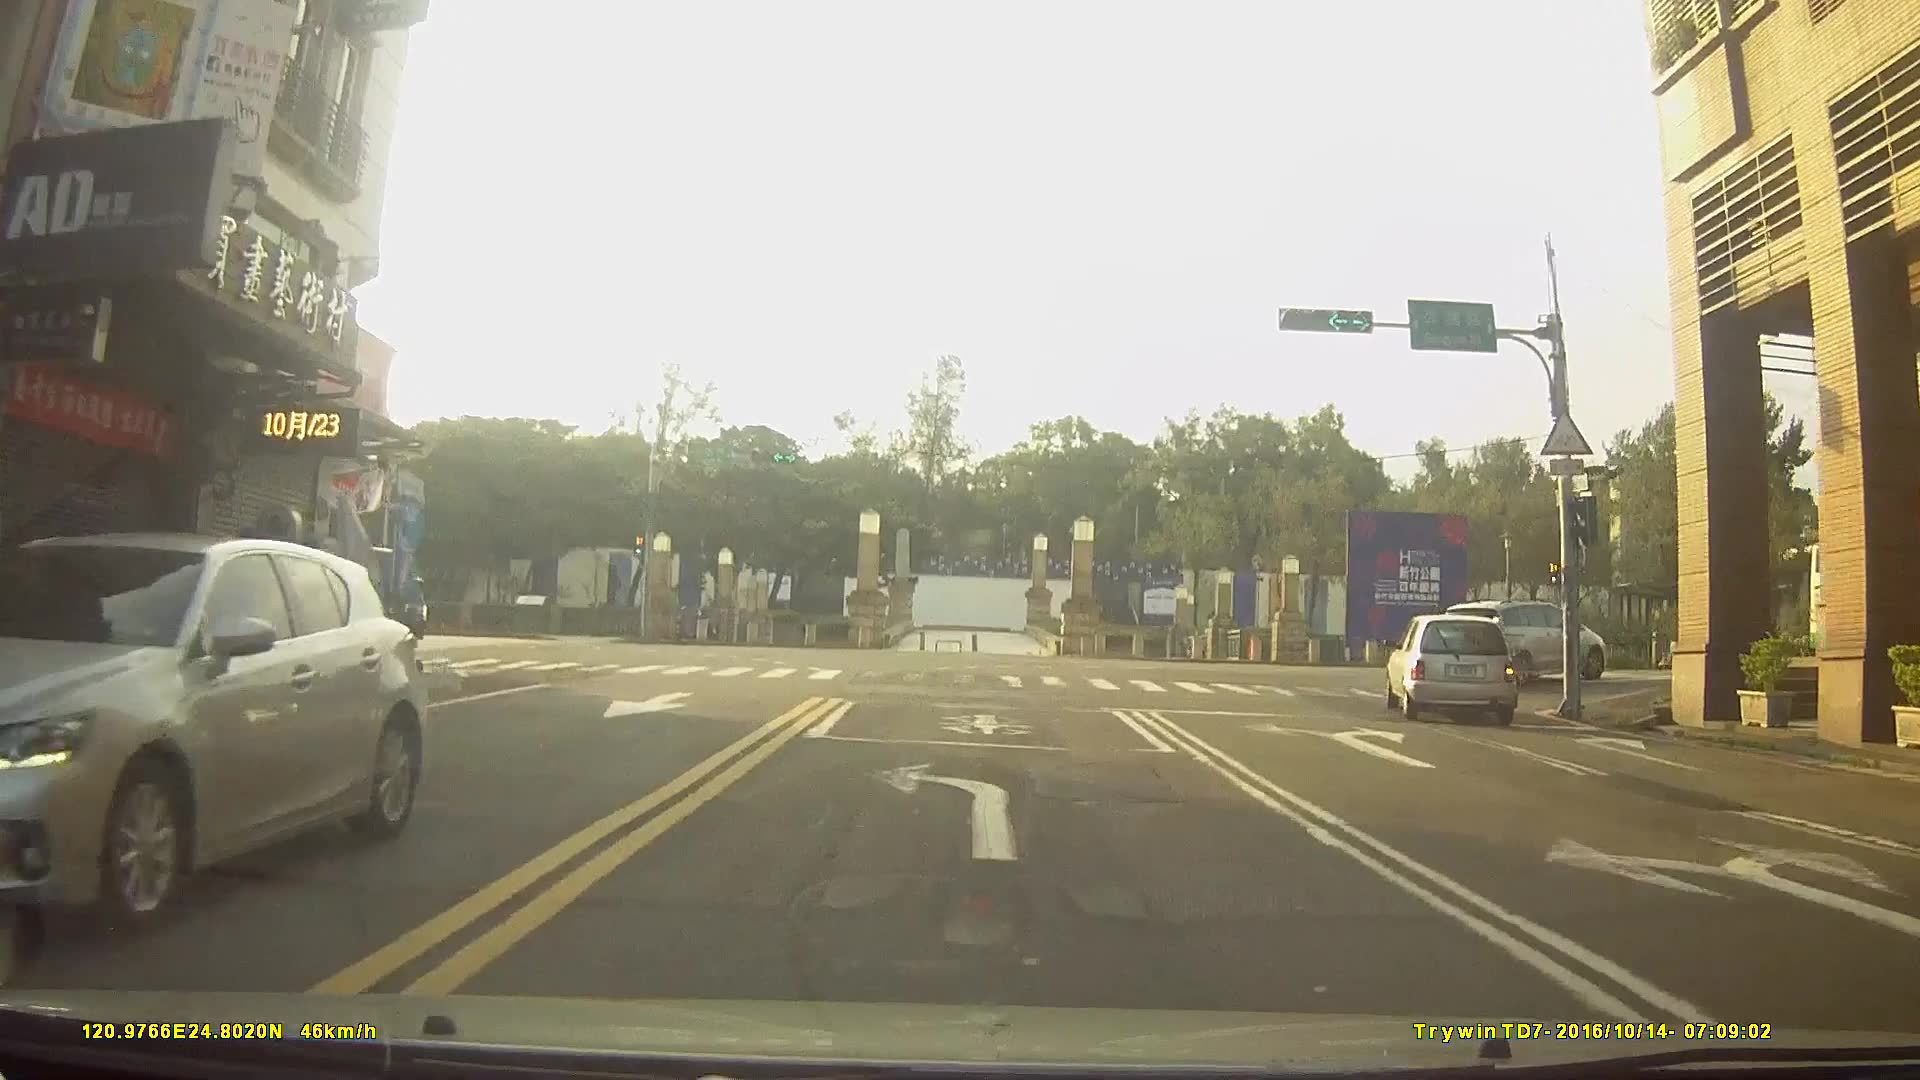vehicle: (0, 529, 427, 942), (1386, 611, 1519, 721), (1440, 597, 1607, 684)
